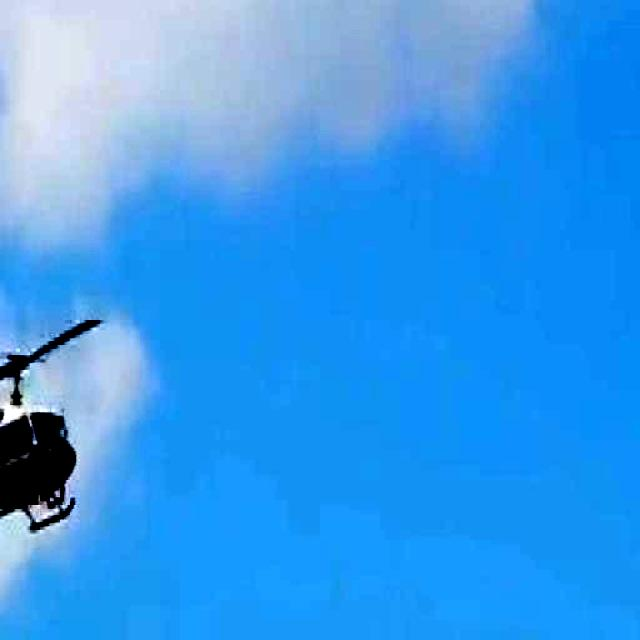drone: (0, 312, 102, 542)
